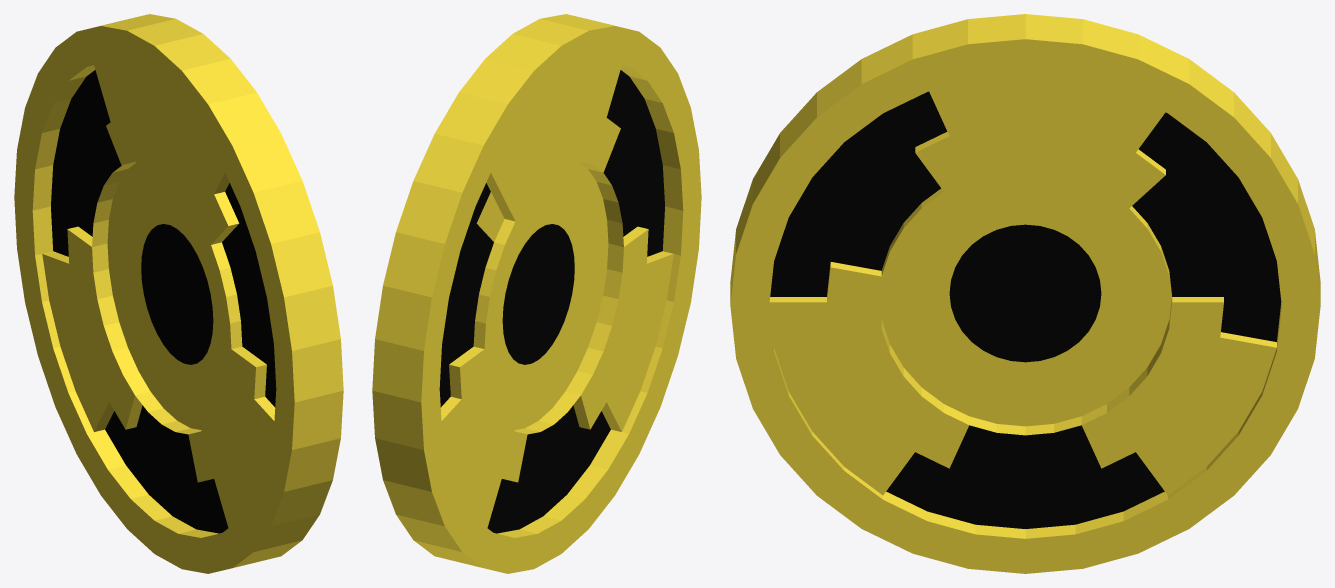
The model's file is Coin.fbx.
3 views of the same model, side by side, from view 1: azimuth 30°, elevation 25°; view 2: azimuth 150°, elevation 25°; view 3: azimuth 270°, elevation 25° (orthographic). The views are drawn at different scales.
Parts seen in each view (by area): view 1: Cylinder; view 2: Cylinder; view 3: Cylinder.
Boxes of the visible parts, x1,y1,x2,y2 form: Cylinder: [14, 14, 343, 573]; Cylinder: [372, 14, 701, 573]; Cylinder: [730, 14, 1320, 573].
Bounding box in the file's own units: 20.47 × 203 × 203.
